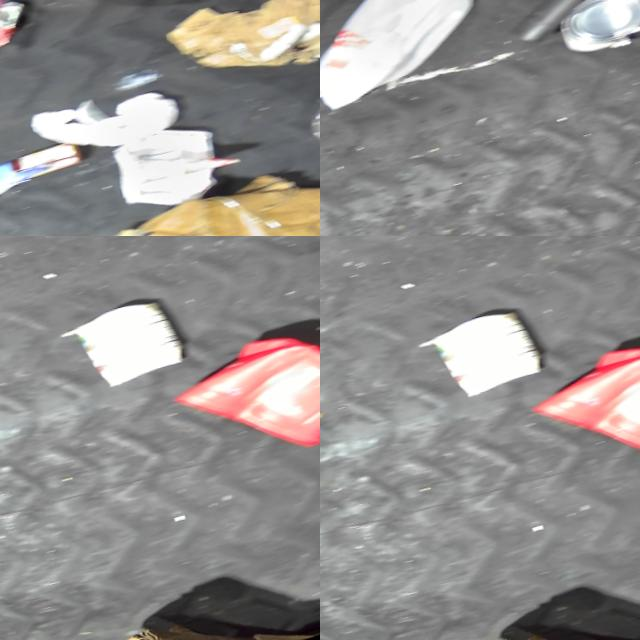can: (545, 0, 640, 59), (0, 0, 43, 65)
milk_jug: (320, 0, 499, 114)
non_white_jug: (153, 314, 320, 480), (511, 324, 640, 490)
